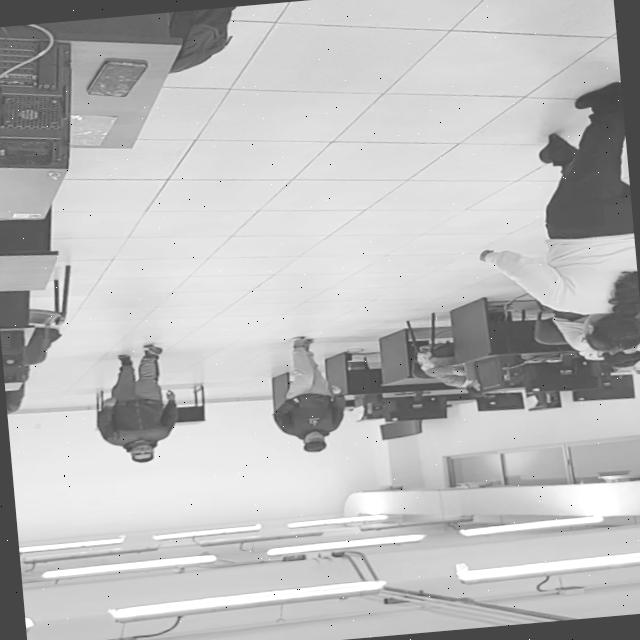Persona: (454, 77, 640, 364), (84, 337, 188, 469), (261, 330, 355, 459)
